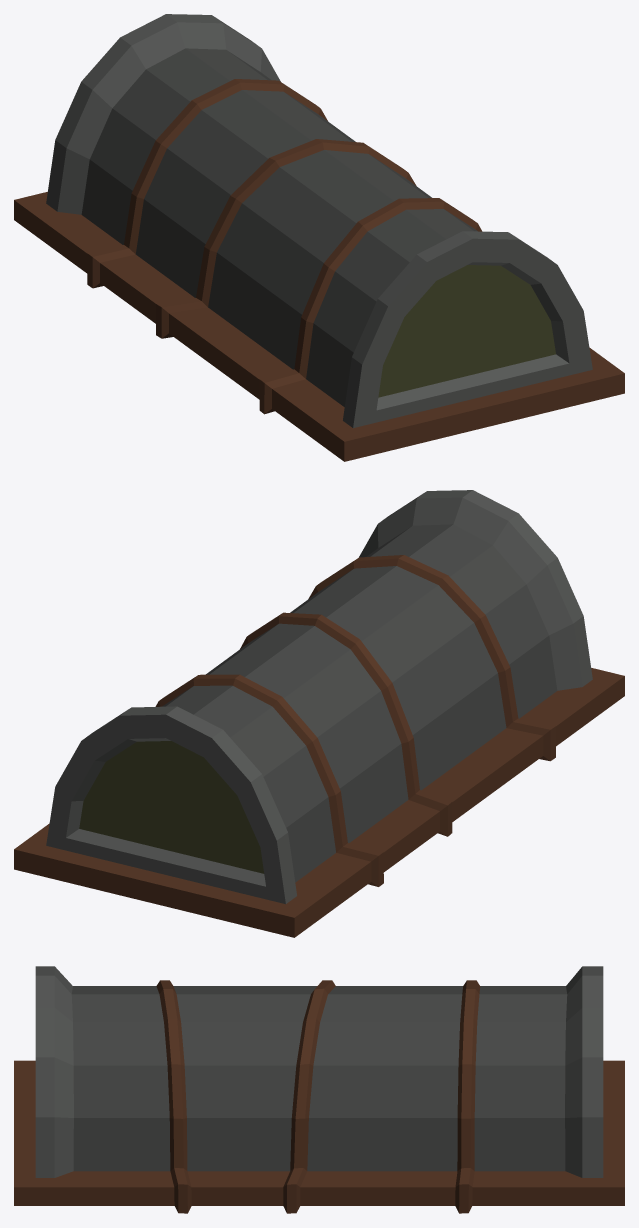
The model's file is LPWarPack_Roll.fbx.
The picture shows the model from 3 angles, top to bottom: view 1: azimuth 30°, elevation 25°; view 2: azimuth 150°, elevation 25°; view 3: azimuth 270°, elevation 25°; orthographic projection. The views are drawn at different scales.
Parts seen in each view (by area): view 1: Roll; view 2: Roll; view 3: Roll.
Boxes of the visible parts, x1,y1,x2,y2 form: Roll: (14,14,624,461); Roll: (14,490,624,937); Roll: (14,966,624,1213).
Size of the model in its own units: 83.02 by 50.56 by 163.
